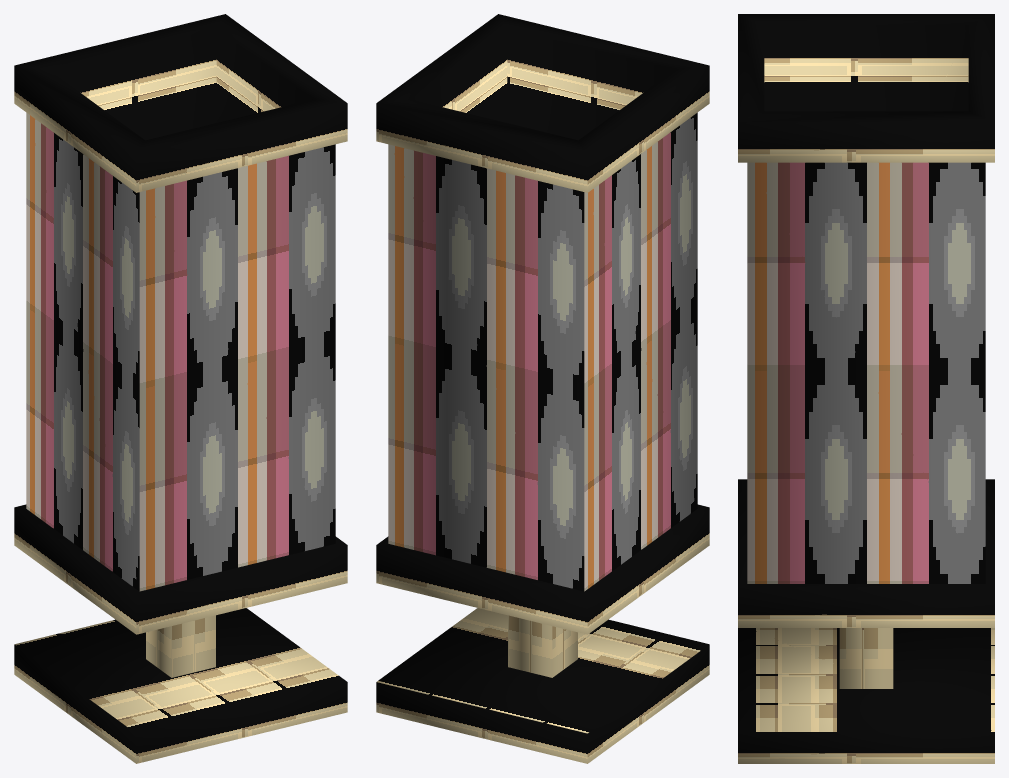
The model's file is 3131IMRL09_24.gltf.
3 views of the same model, side by side, from view 1: azimuth 30°, elevation 25°; view 2: azimuth 150°, elevation 25°; view 3: azimuth 270°, elevation 25° (orthographic). The views are drawn at different scales.
Parts seen in each view (by area): view 1: 3131IMRL09_24; view 2: 3131IMRL09_24; view 3: 3131IMRL09_24.
Boxes of the visible parts, bbox=[...] form: 3131IMRL09_24: bbox=[14, 14, 347, 763]; 3131IMRL09_24: bbox=[376, 14, 709, 763]; 3131IMRL09_24: bbox=[738, 14, 994, 763].
Size of the model in its own units: 0.3999 by 1.1 by 0.3999.
Materials: 3 (3 with a texture image).
